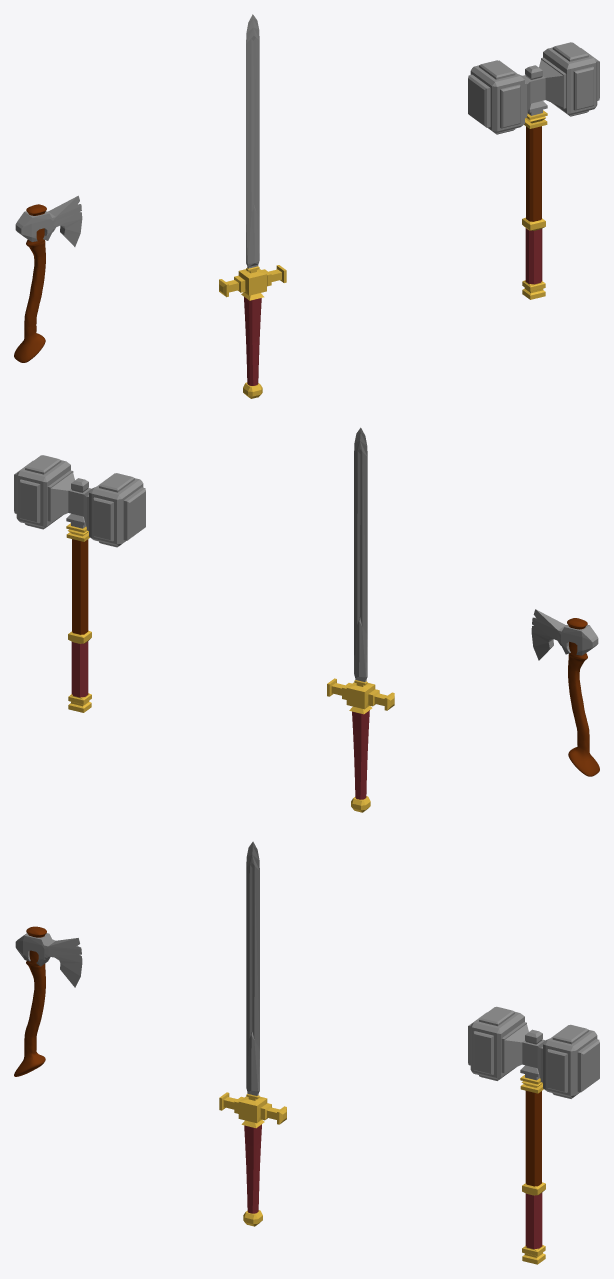
The model's file is HomeWork24Weapons.fbx.
3 views of the same model, one above another, from view 1: azimuth 30°, elevation 25°; view 2: azimuth 150°, elevation 25°; view 3: azimuth 330°, elevation 25° (orthographic).
Visible parts, largest first — view 1: Hammer, Sword, Axe, AxeHead; view 2: Hammer, Sword, Axe, AxeHead; view 3: Hammer, Sword, Axe, AxeHead.
Part boxes in pixels (x1=…): Hammer: x1=468, y1=42, x2=599, y2=299; Sword: x1=219, y1=14, x2=286, y2=398; Axe: x1=14, y1=204, x2=46, y2=362; AxeHead: x1=15, y1=195, x2=82, y2=246; Hammer: x1=14, y1=455, x2=145, y2=712; Sword: x1=327, y1=427, x2=394, y2=812; Axe: x1=567, y1=618, x2=599, y2=776; AxeHead: x1=531, y1=609, x2=598, y2=660; Hammer: x1=468, y1=1006, x2=599, y2=1264; Sword: x1=219, y1=841, x2=286, y2=1226; Axe: x1=14, y1=926, x2=46, y2=1076; AxeHead: x1=15, y1=933, x2=82, y2=987.
Bounding box in the file's own units: 2506 × 1593 × 218.
